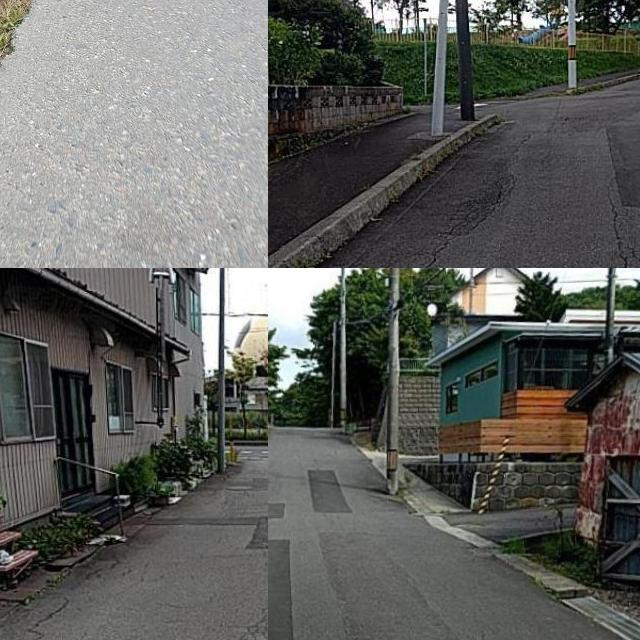Sambungan: (144, 514, 268, 550), (612, 120, 640, 202), (304, 468, 353, 513), (268, 503, 286, 523)
